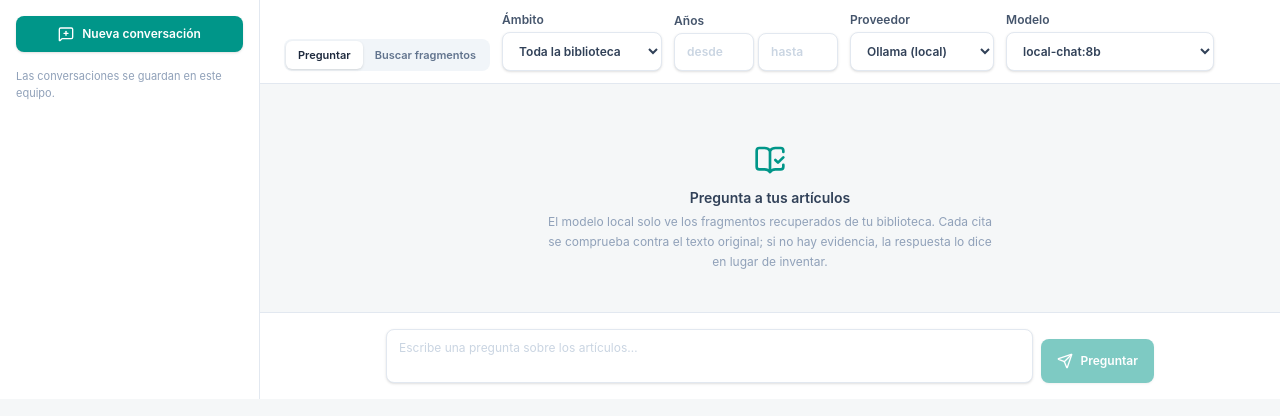
AssistantPage › searches fragments without the language model
Click the tab "Buscar fragmentos".
click(425, 55)  # box [363,40,488,69]
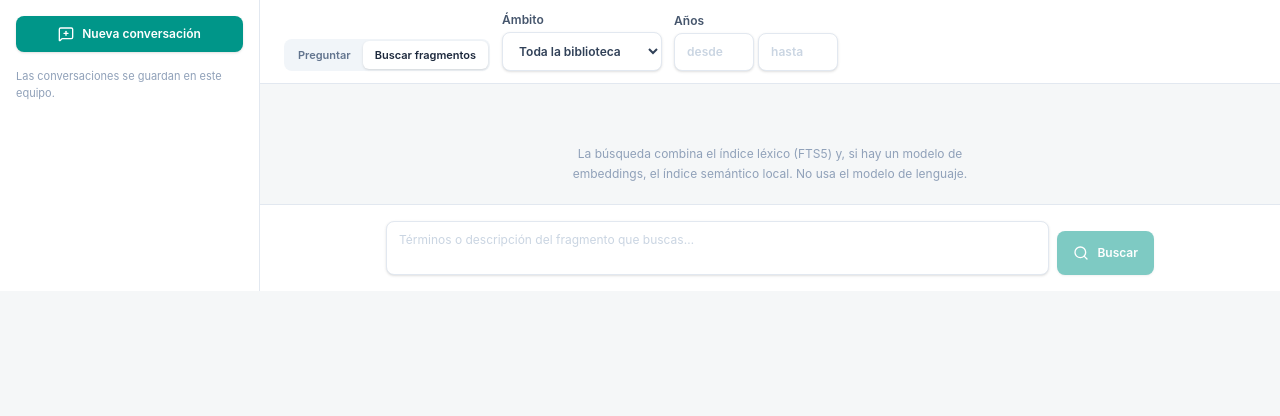
Type "learning rate" into the text box named "Búsqueda".
click(718, 248); type("learning rate")  # box [386,221,1049,275]
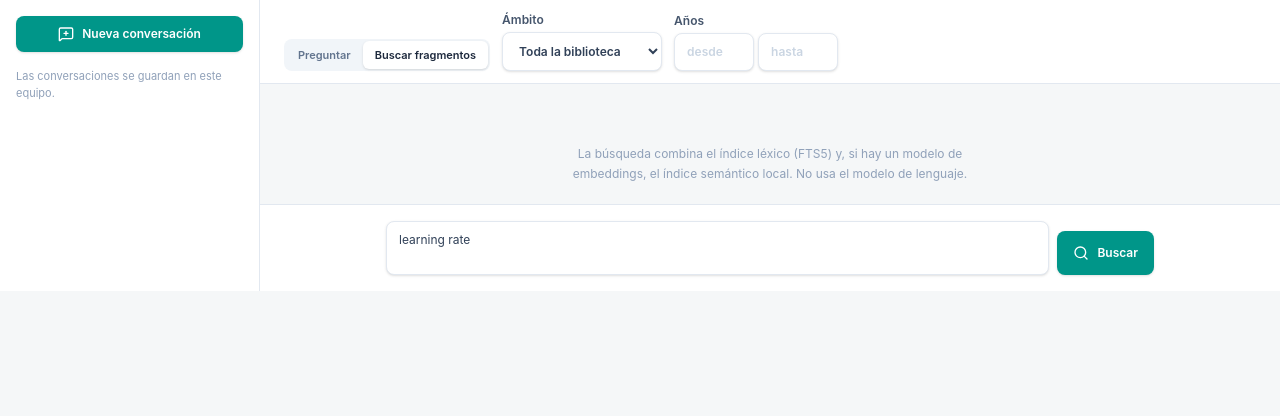
Click the button "Buscar".
click(1106, 253)  # box [1057,231,1154,275]
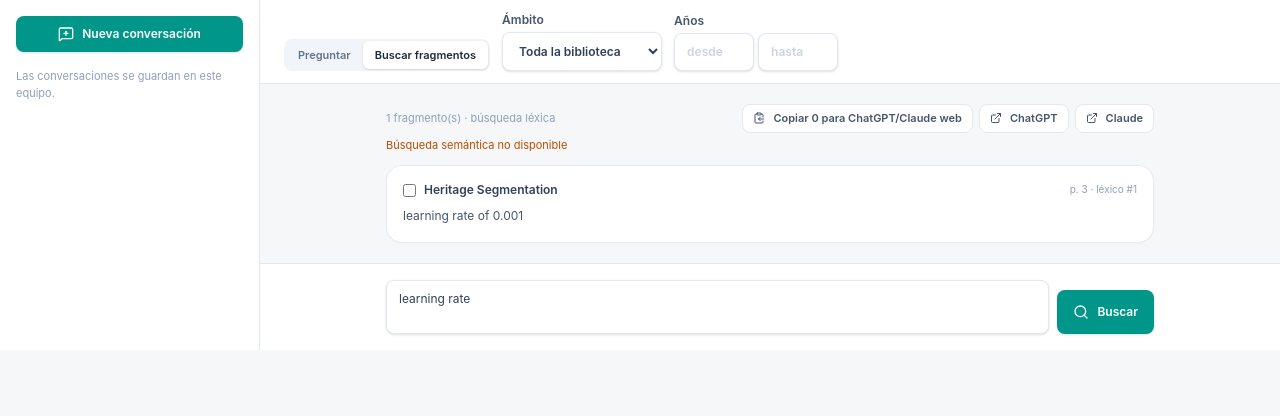
Check: the text "learning rate of 0.001" is shown, box [403,208,523,223]
Check: the text "Búsqueda semántica no disponible" is shown, box [386,138,567,152]
Check: the text "p. 3 · léxico #1" is shown, box [1070,182,1137,197]
